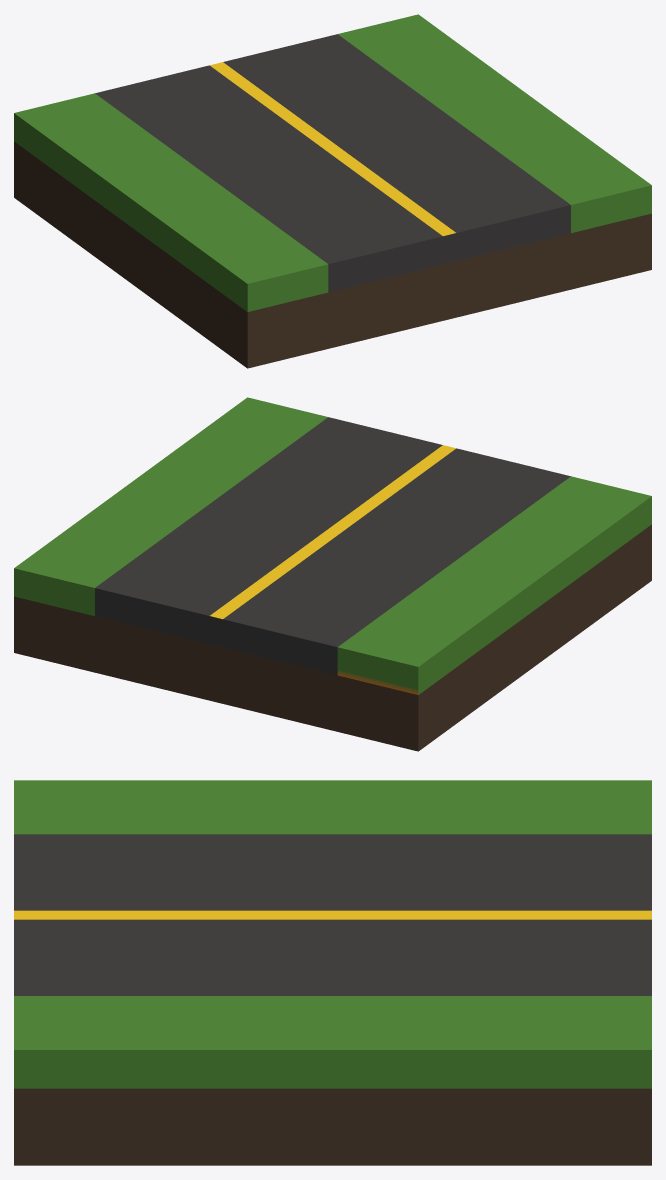
Rendered from tile-runway-straight.glb.
3 renders of one model, top to bottom at view 1: azimuth 30°, elevation 25°; view 2: azimuth 150°, elevation 25°; view 3: azimuth 270°, elevation 25°, orthographic. The views are drawn at different scales.
Visible parts, largest first — view 1: tile-runway-straight; view 2: tile-runway-straight; view 3: tile-runway-straight.
Part boxes in pixels (x1,y1,x2,y2): tile-runway-straight: (14,14,651,368); tile-runway-straight: (14,397,651,751); tile-runway-straight: (14,780,651,1165).
Size of the model in its own units: 30 by 6 by 30.
1 material, 1 textured.
